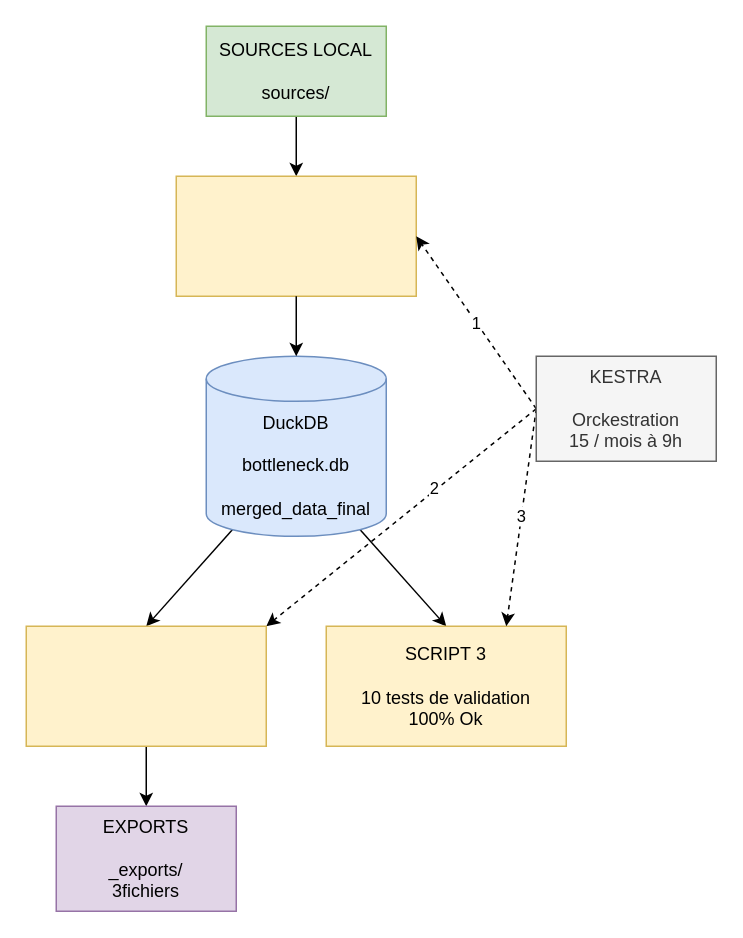
Image size: 743x938. Some labels were removed from this diagram. Here are the shapes that lost their labels. From the top down, the box of each, then its label:
(175, 175, 416, 296): SCRIPT 1 Nettoyage + fuison 714 lignes
(25, 625, 266, 746): SCRIPT 2 CA + Classification 70 568,00€
